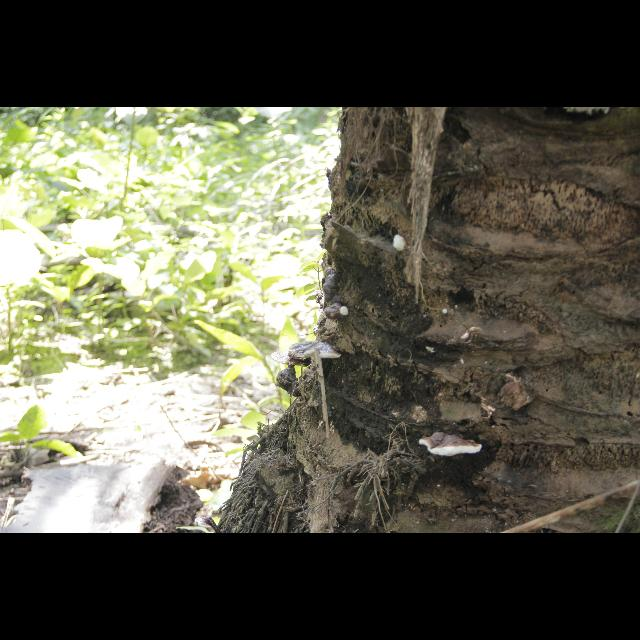ganoderma: (420, 433, 484, 458), (321, 268, 342, 321), (289, 342, 342, 361), (272, 351, 313, 368)
primordium: (393, 236, 409, 253), (340, 306, 351, 319), (443, 310, 449, 316)
